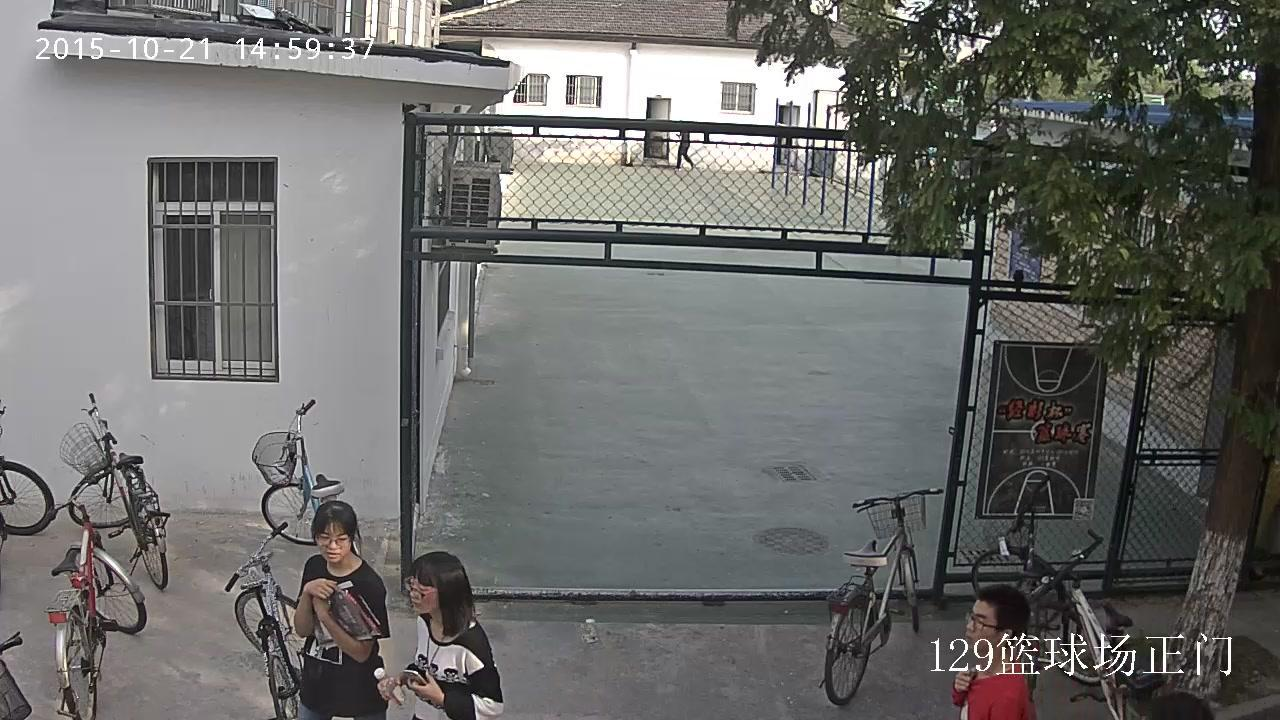person: (374, 550, 504, 720), (293, 500, 390, 720), (949, 582, 1037, 720), (673, 130, 696, 169)
